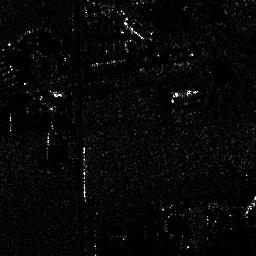ship: (173, 88, 197, 97)
